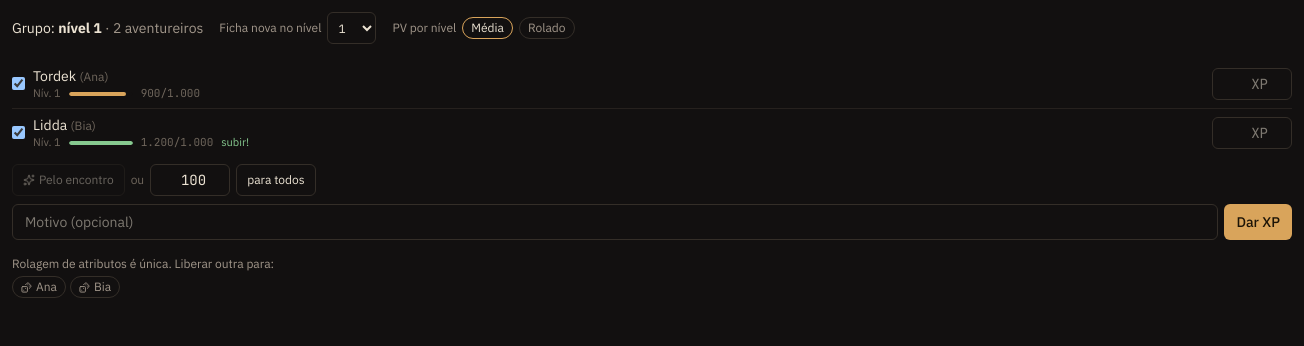
Test: ProgressionPanel › sem derrotados o botão do encontro fica desligado; sem XP avisa
Check: the button "Pelo encontro" is disabled, box [12,164,125,196]
Click the button "Dar XP". click: [1258, 222]
box: [1224,204,1292,240]
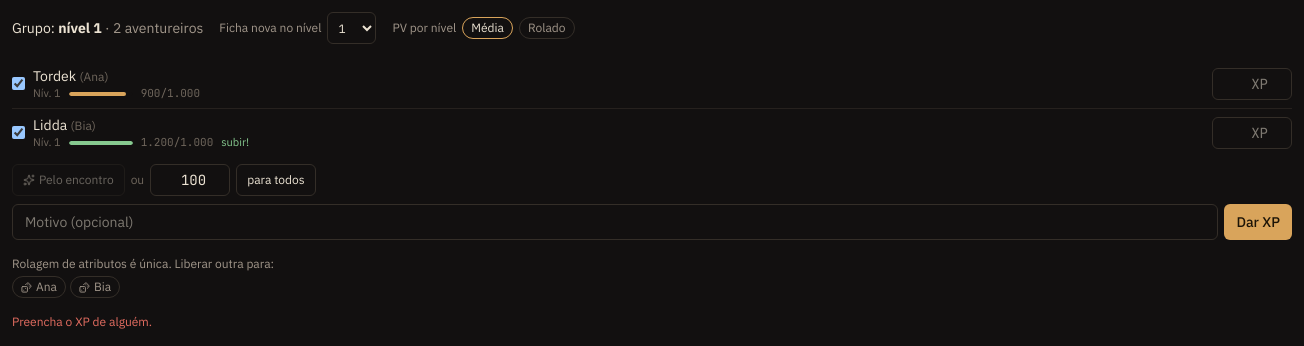
Check: the message reads "Preencha o XP de alguém.", box [12,314,152,329]
